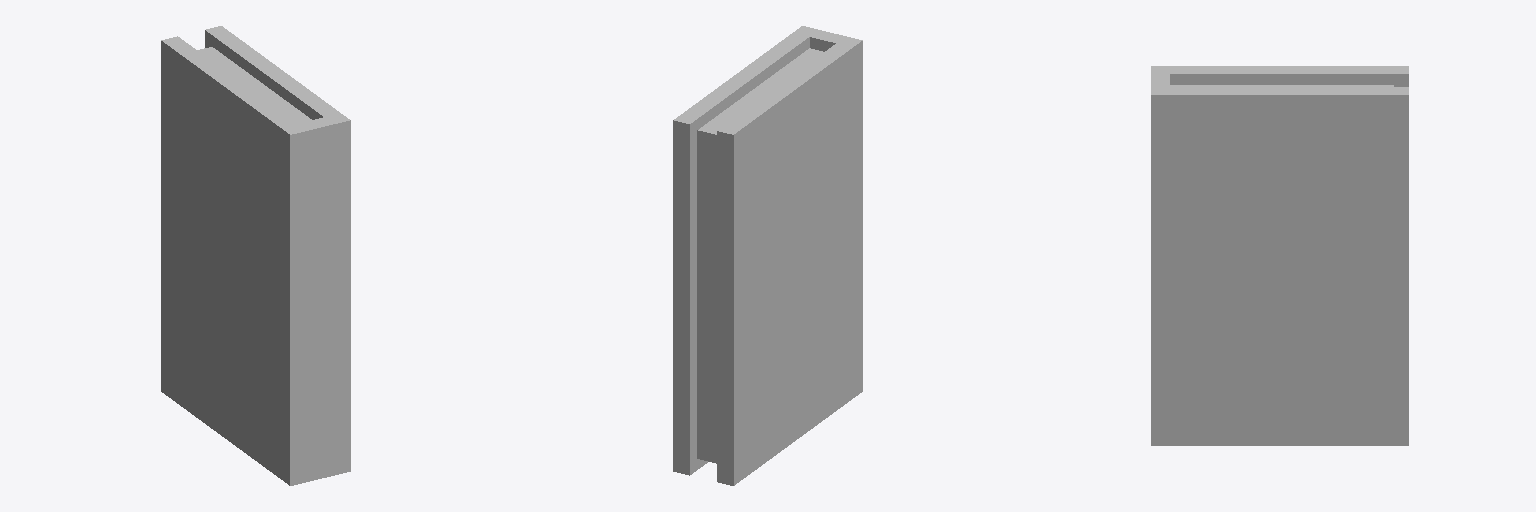
File: prop_libroPequeno.obj
The picture shows the model from 3 angles: view 1: azimuth 30°, elevation 25°; view 2: azimuth 150°, elevation 25°; view 3: azimuth 270°, elevation 25°; orthographic projection.
Visible parts, largest first — view 1: libroPequeno; view 2: libroPequeno; view 3: libroPequeno.
Boxes of the visible parts, box(x1,y1,x2,y2) form: libroPequeno: box(161, 26, 350, 485); libroPequeno: box(673, 26, 862, 485); libroPequeno: box(1151, 66, 1408, 445).
Bounding box in the file's own units: 0.0701 × 0.39 × 0.26.